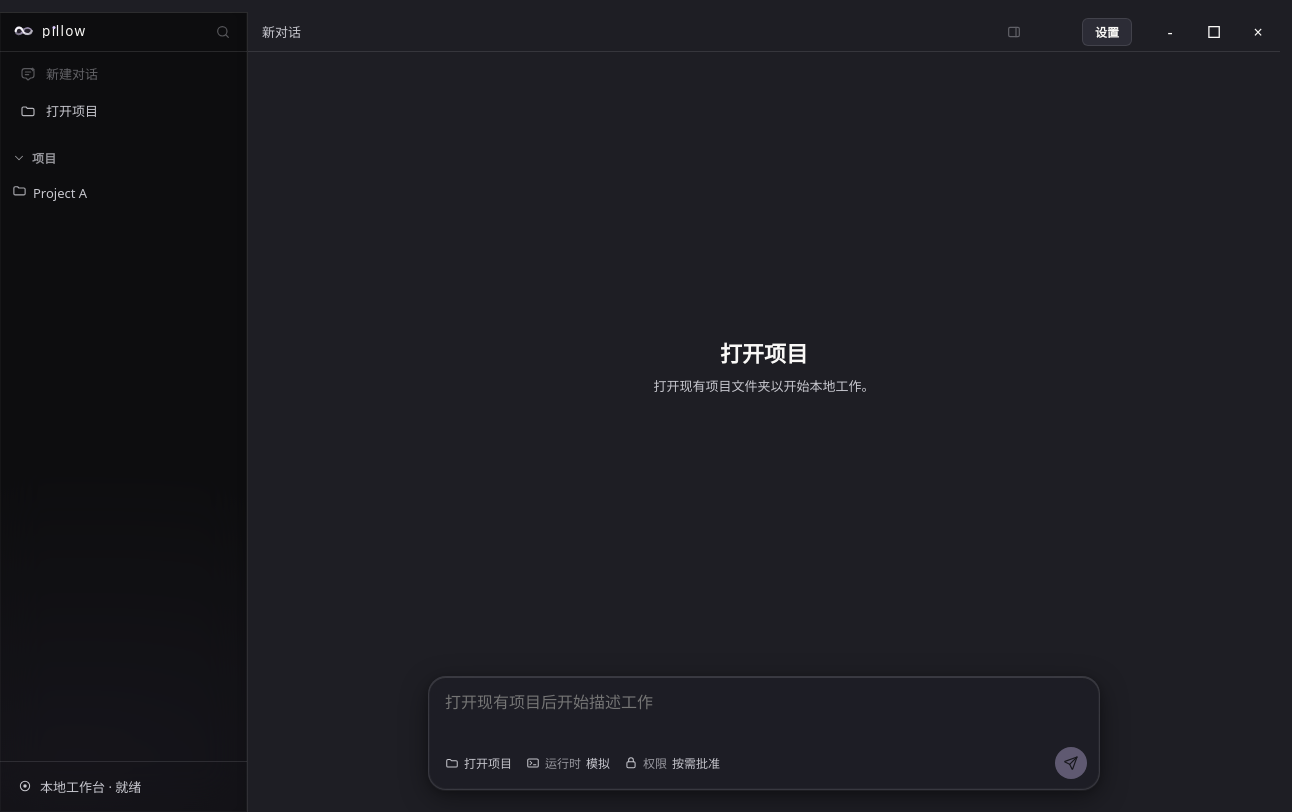
it: accepted send vs timeline refresh › does not surface loadTimeline failure as send failure or restore draft
Click the button "Project A" at (124, 192), box [4, 176, 243, 209]
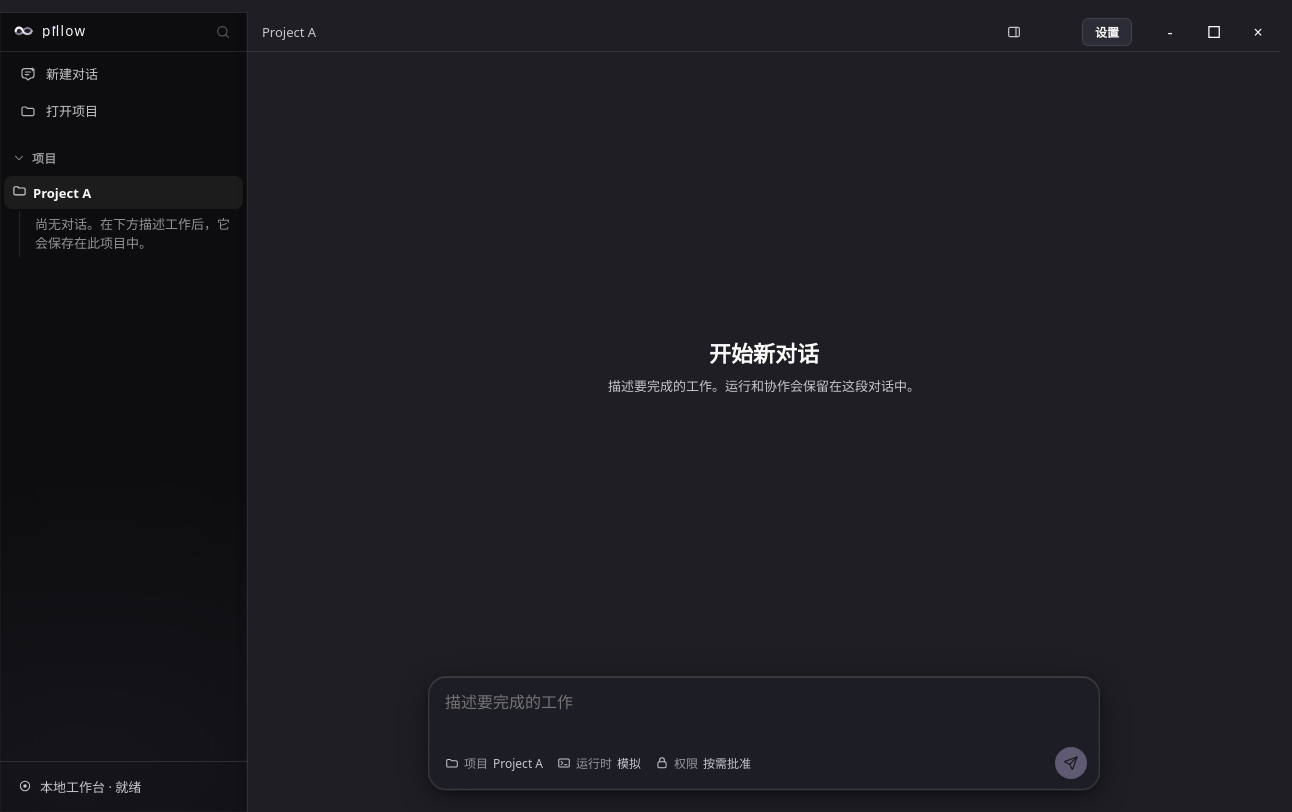
Type "accepted once" into the text box named "工作请求" at (764, 713), box [441, 687, 1087, 739]
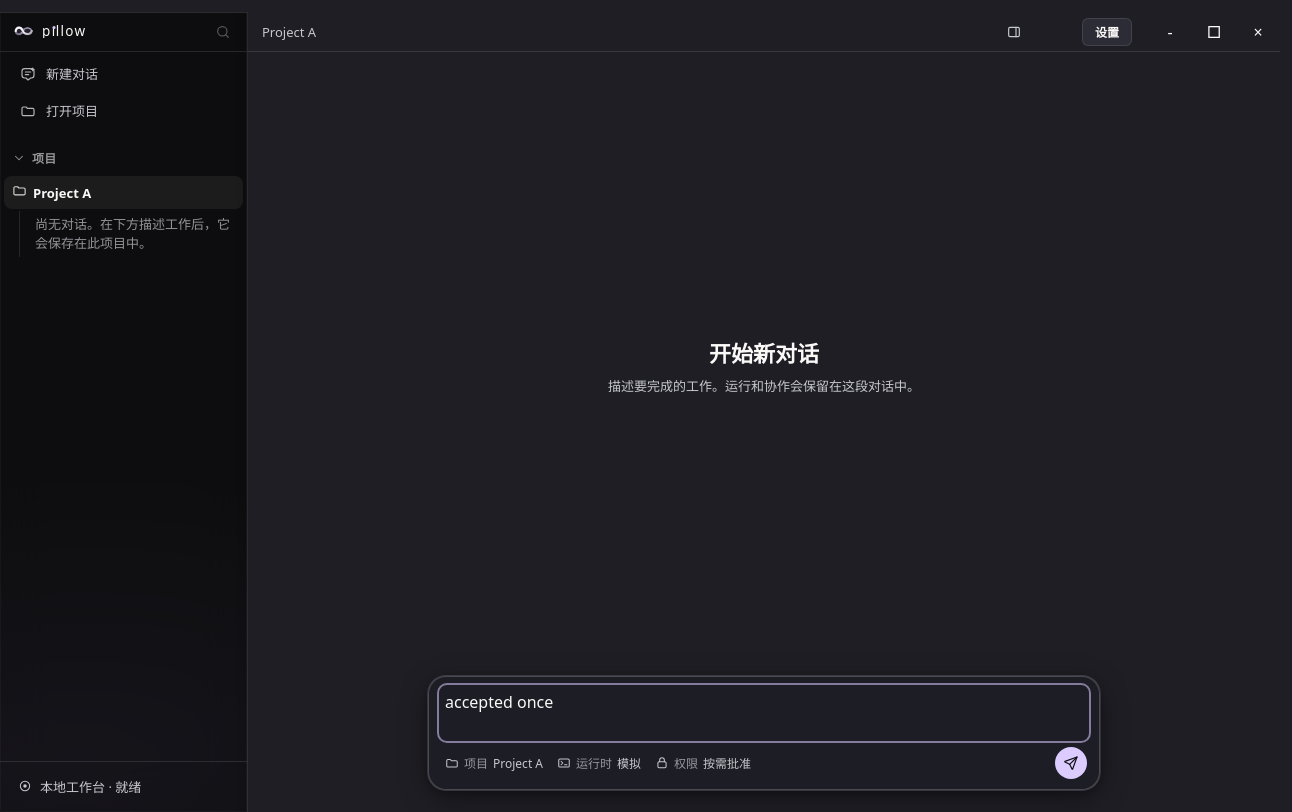
Click the button with test id "composer-send" at (1071, 763), box [1055, 747, 1087, 779]
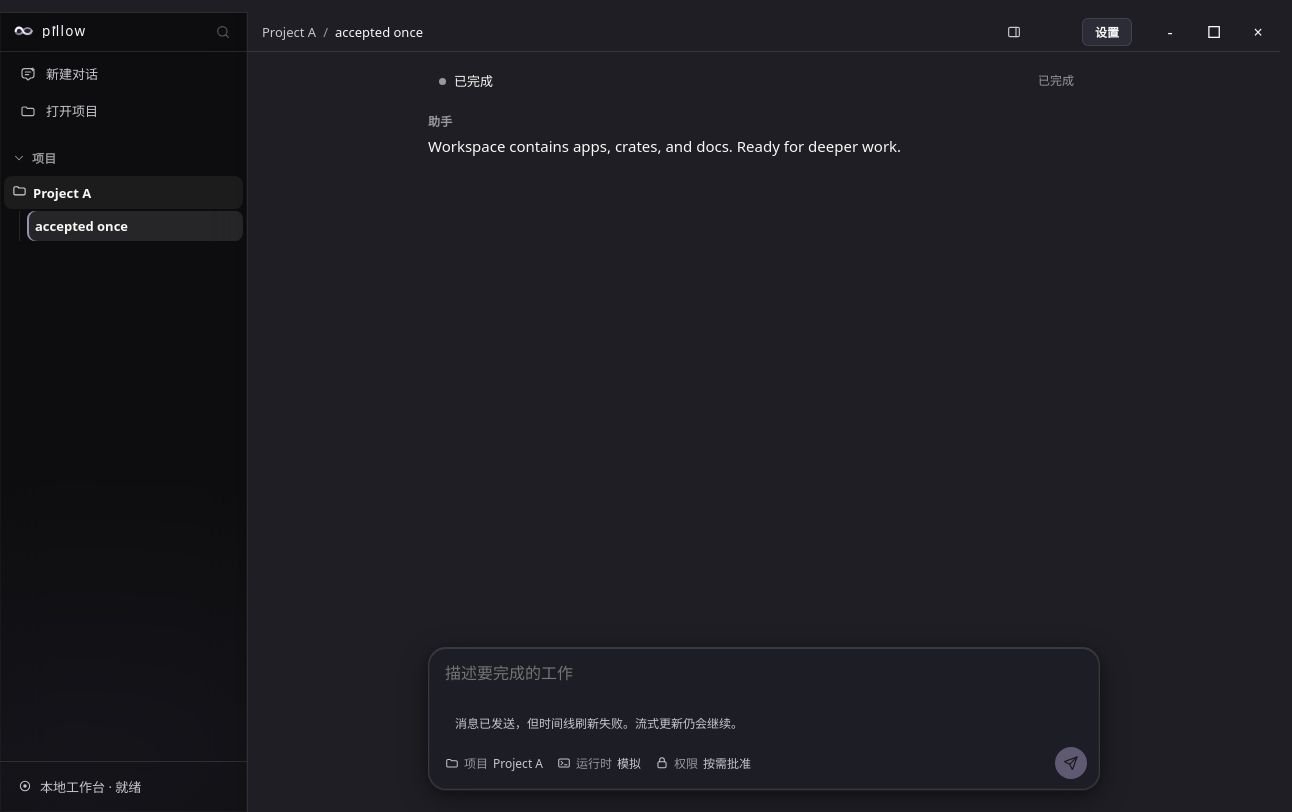
Expected: the message "消息已发送，但时间线刷新失败。流式更新仍会继续。" is shown, [455, 715, 743, 732]
Expected: the text box named "工作请求" is empty, [441, 658, 1087, 710]
Expected: the heading with test id "agent-activity-summary" shows "已完成", [439, 72, 1074, 90]
